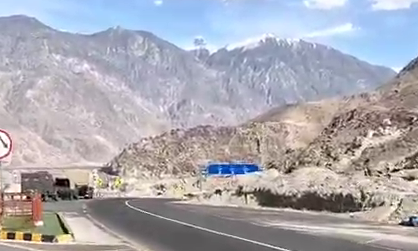stright: (94, 166, 219, 240)
